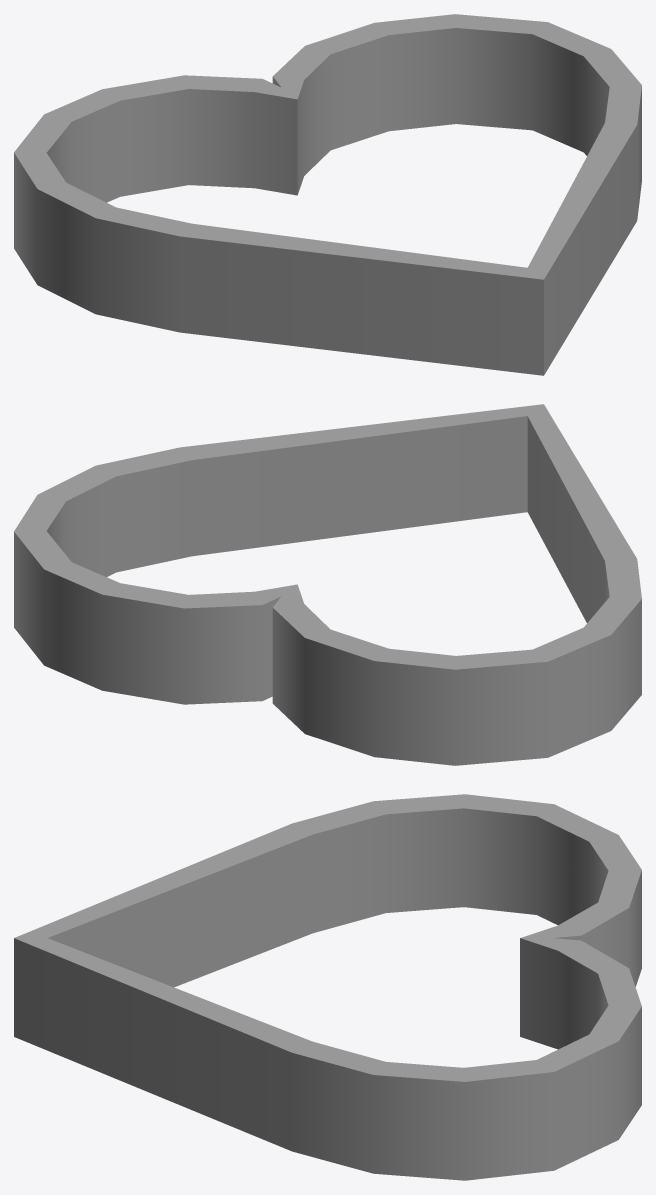
Rendered from BiscuitCutter_Heart_01.fbx.
The picture shows the model from 3 angles, top to bottom: view 1: azimuth 30°, elevation 25°; view 2: azimuth 150°, elevation 25°; view 3: azimuth 270°, elevation 25°; orthographic projection. The views are drawn at different scales.
Parts seen in each view (by area): view 1: BiscuitCutter_Heart_01; view 2: BiscuitCutter_Heart_01; view 3: BiscuitCutter_Heart_01.
Part boxes in pixels (<box>): BiscuitCutter_Heart_01: <box>14,14,641,375</box>; BiscuitCutter_Heart_01: <box>14,404,641,765</box>; BiscuitCutter_Heart_01: <box>14,794,641,1180</box>.
Size of the model in its own units: 0.0797 by 0.0128 by 0.0735.
